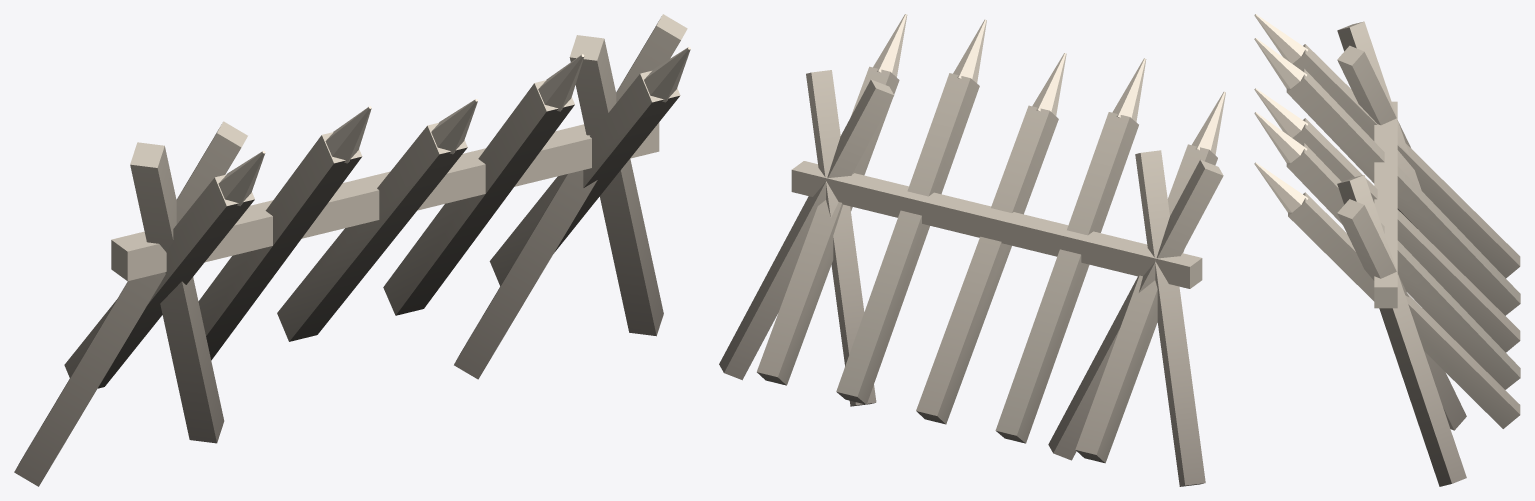
Rendered from SM_VKI_Prop_Barricade_Stakes.fbx.
The picture shows the model from 3 angles, left to right: view 1: azimuth 30°, elevation 25°; view 2: azimuth 150°, elevation 25°; view 3: azimuth 270°, elevation 25°; orthographic projection. The views are drawn at different scales.
Parts seen in each view (by area): view 1: SM_VKI_Prop_Barricade_Stakes.001; view 2: SM_VKI_Prop_Barricade_Stakes.001; view 3: SM_VKI_Prop_Barricade_Stakes.001.
Boxes of the visible parts, bbox=[...] form: SM_VKI_Prop_Barricade_Stakes.001: bbox=[14, 14, 690, 486]; SM_VKI_Prop_Barricade_Stakes.001: bbox=[719, 14, 1225, 486]; SM_VKI_Prop_Barricade_Stakes.001: bbox=[1254, 14, 1520, 486].
Bounding box in the file's own units: 1.83 × 1.15 × 0.9099.
